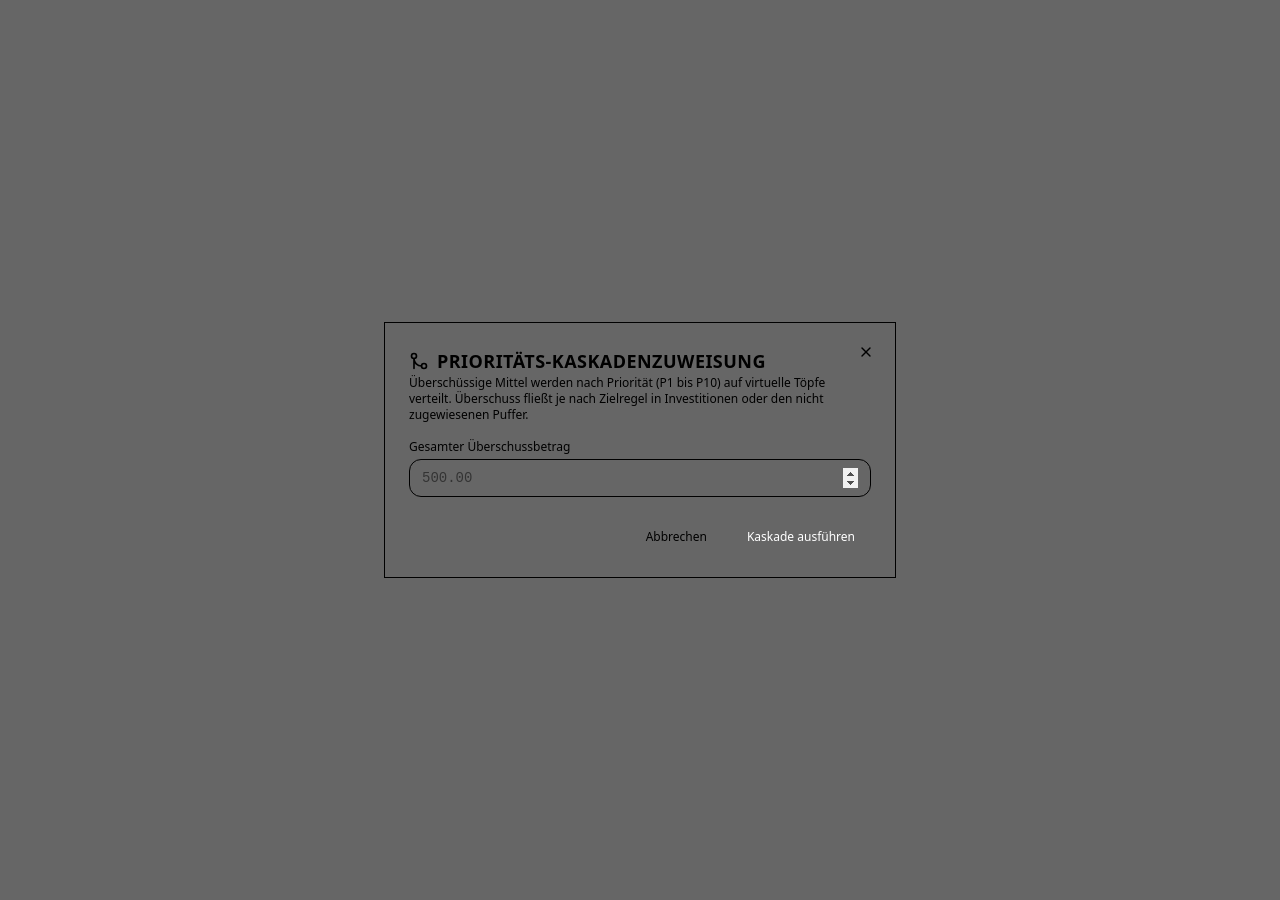
dialogs surface failed saves › CascadeModal lists the allocations after a successful run
Type "500" into the number field labelled "Gesamter Überschussbetrag" at {"x": 640, "y": 478}, box [409, 459, 871, 497]
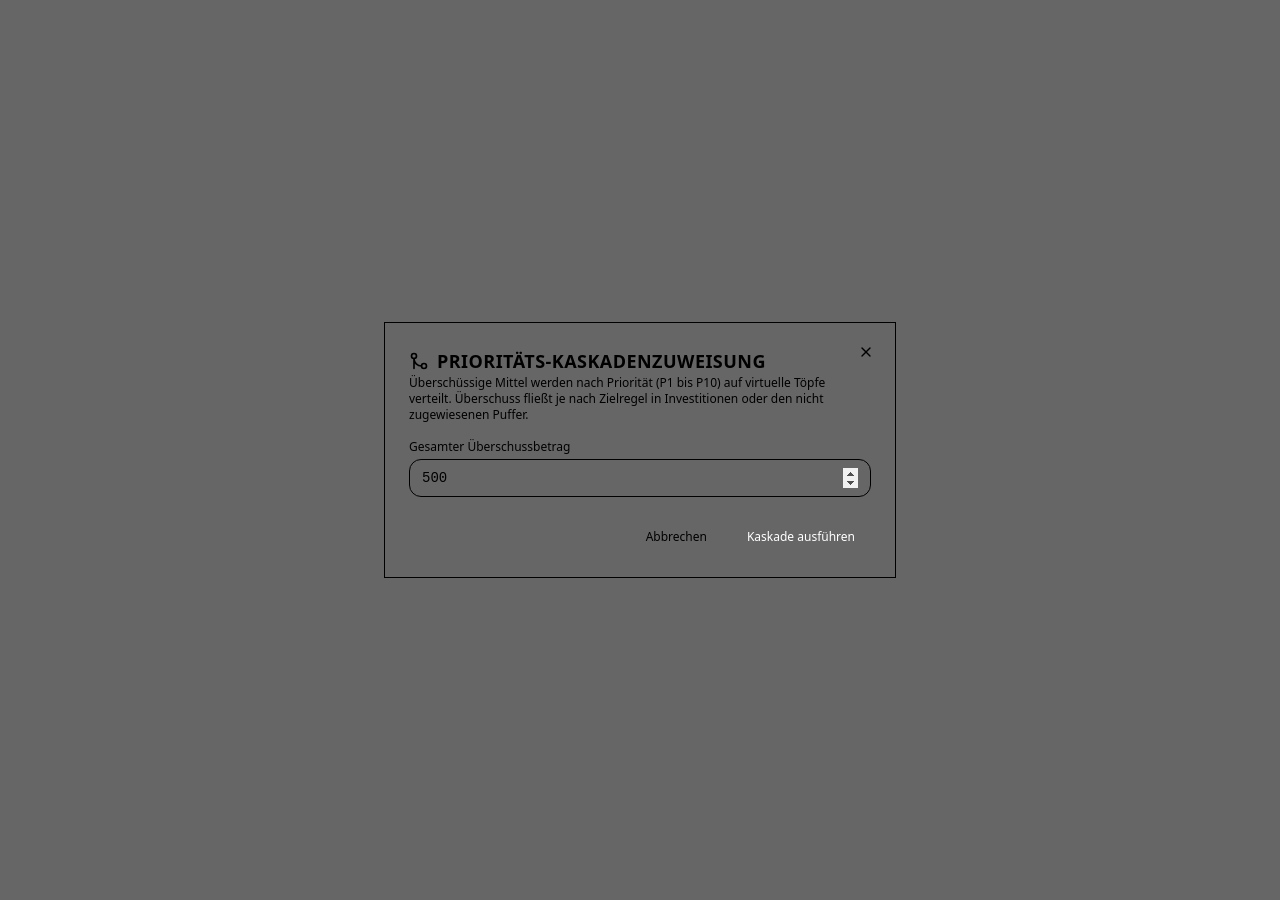
Submit the form named "Gesamter Überschussbetrag", box [409, 375, 871, 553]
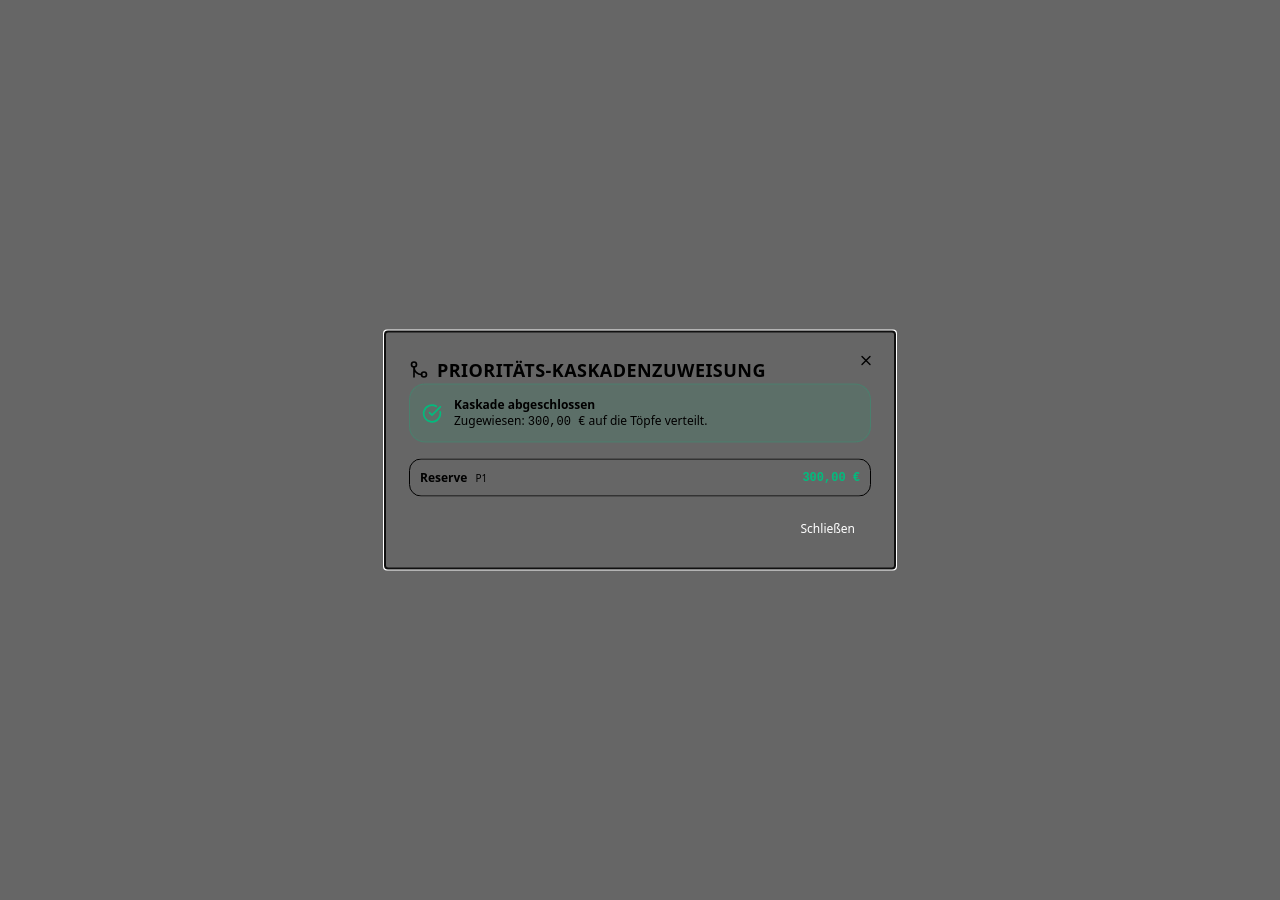
Expected: the text "Kaskade abgeschlossen" is shown, [454, 396, 595, 412]
Expected: the text "Reserve" is shown, [420, 470, 467, 486]
